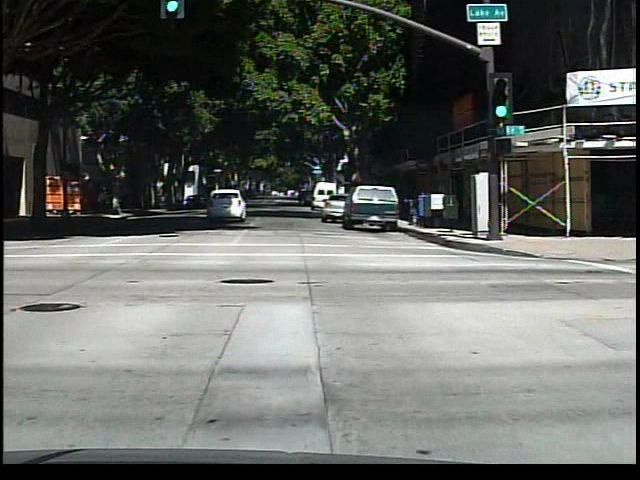person: (94, 183, 111, 218)
